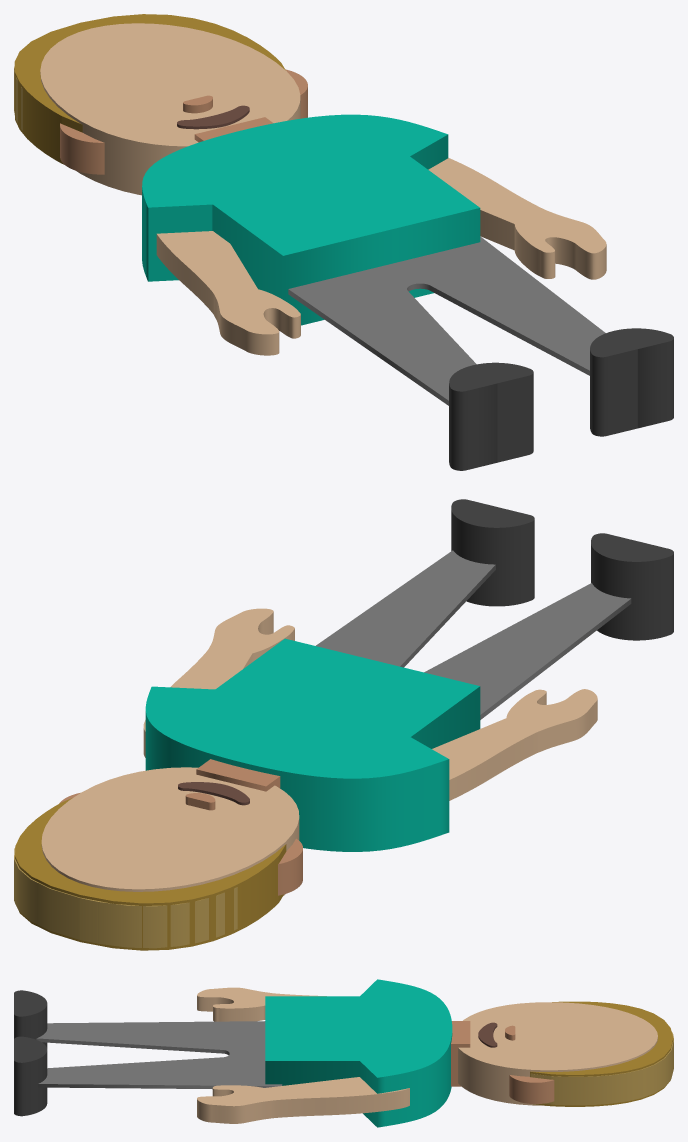
Rendered from emoji_u1f9cd_1f3fc_200d_2642.glb.
3 renders of one model, top to bottom at view 1: azimuth 30°, elevation 25°; view 2: azimuth 150°, elevation 25°; view 3: azimuth 270°, elevation 25°, orthographic. The views are drawn at different scales.
Visible parts, largest first — view 1: emoji_u1f9cd_1f3fc_200d_2642; view 2: emoji_u1f9cd_1f3fc_200d_2642; view 3: emoji_u1f9cd_1f3fc_200d_2642.
Boxes of the visible parts, <box> form: emoji_u1f9cd_1f3fc_200d_2642: <box>14,14,673,470</box>; emoji_u1f9cd_1f3fc_200d_2642: <box>14,499,673,950</box>; emoji_u1f9cd_1f3fc_200d_2642: <box>14,979,673,1127</box>.
Size of the model in its own units: 0.0145 by 0.003 by 0.0336.
